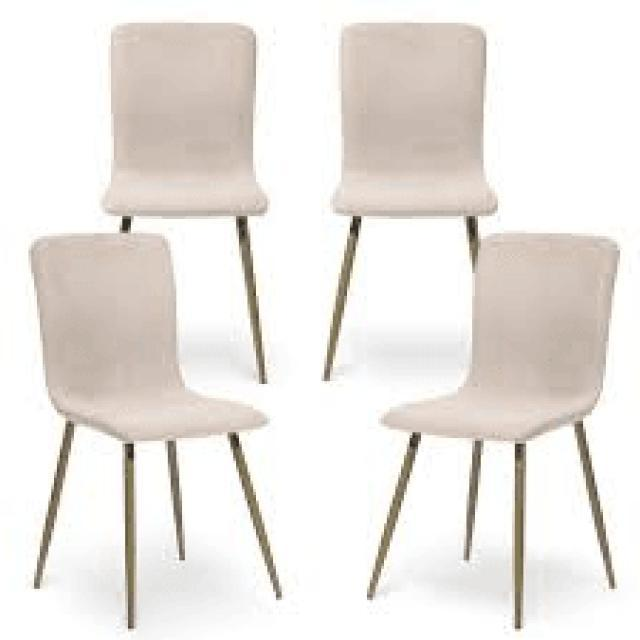chair: (21, 224, 282, 632), (362, 224, 620, 632), (322, 15, 500, 386), (98, 17, 272, 387), (366, 226, 623, 472), (30, 235, 266, 432), (109, 12, 270, 239), (338, 19, 491, 242)
